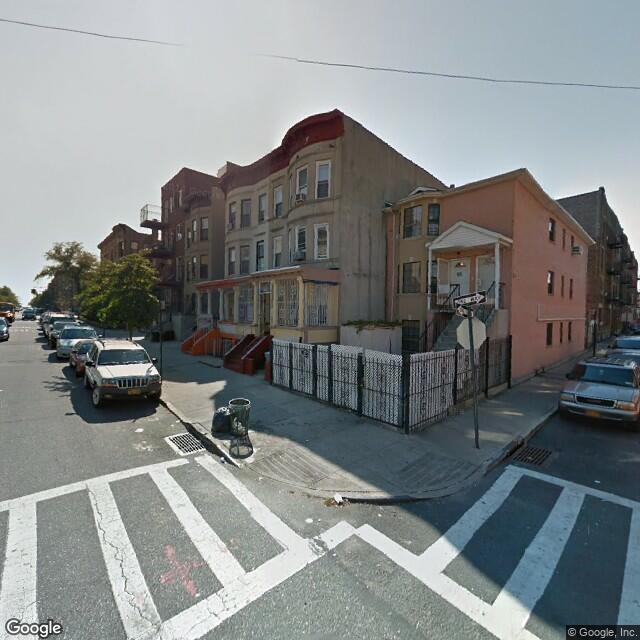litter: (332, 494, 346, 507), (168, 420, 181, 428), (592, 476, 601, 487), (524, 456, 536, 462), (133, 426, 145, 432), (255, 474, 265, 481), (218, 456, 226, 461), (374, 513, 384, 517), (302, 437, 311, 441)
